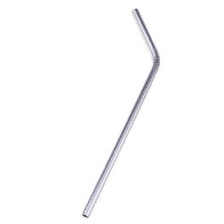drinking_straw: (75, 4, 164, 221)
